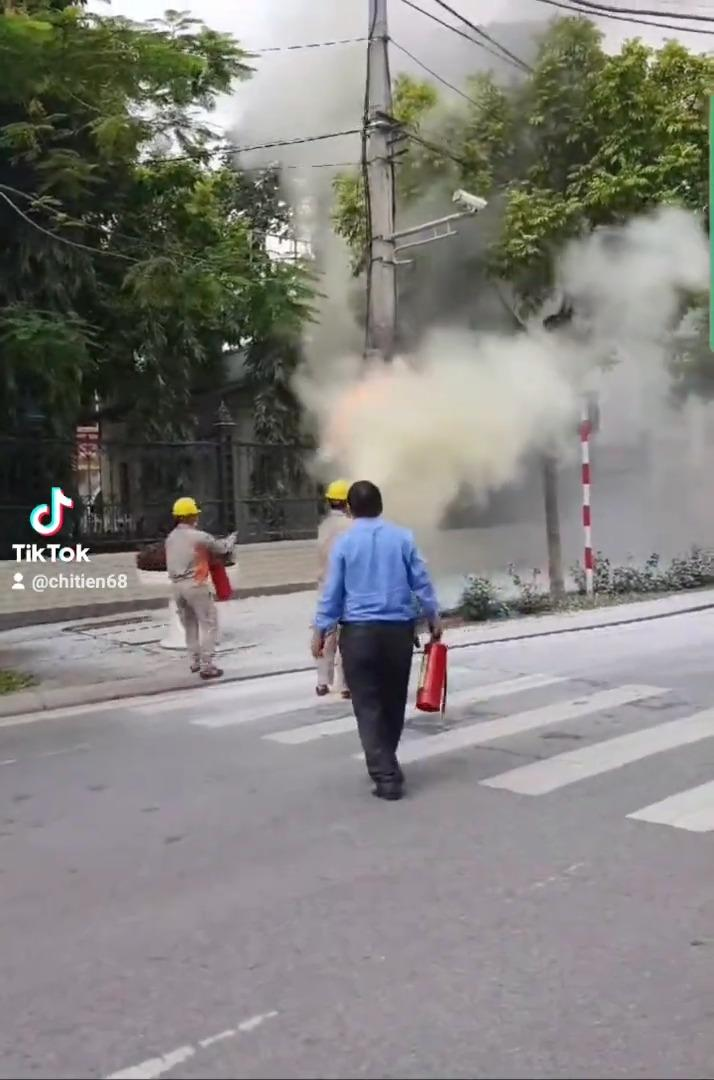FireExtinguisher: (418, 628, 458, 723), (206, 526, 250, 599)
not: (569, 410, 606, 571), (71, 423, 106, 505)
